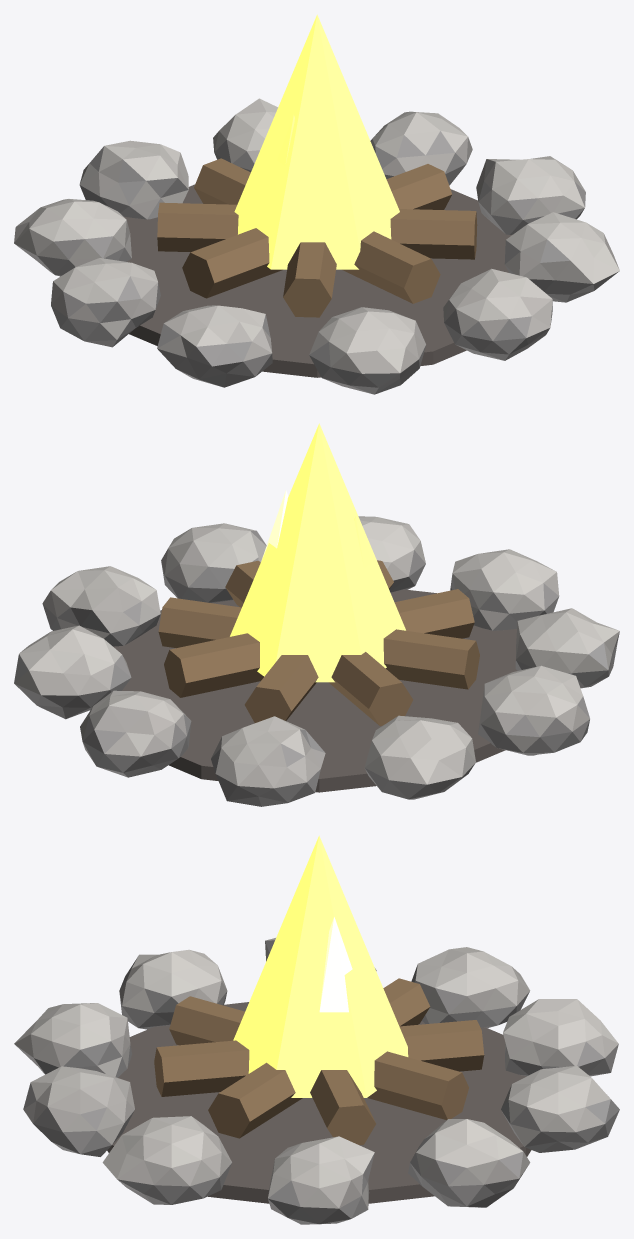
The model's file is Campfire.glb.
The picture shows the model from 3 angles, top to bottom: view 1: azimuth 30°, elevation 25°; view 2: azimuth 150°, elevation 25°; view 3: azimuth 270°, elevation 25°; orthographic projection. The views are drawn at different scales.
Parts seen in each view (by area): view 1: Campfire_Flame, Campfire_Ash, Campfire_Stone.007, Campfire_Stone.008, Campfire_Stone.006, Campfire_Log.003, Campfire_Stone.005, Campfire_Stone.009, Campfire_Stone.004, Campfire_Stone.003, Campfire_Log, Campfire_Stone (+4 smaller); view 2: Campfire_Flame, Campfire_Ash, Campfire_Stone.005, Campfire_Stone.003, Campfire_Log, Campfire_Log.001, Campfire_Stone.001, Campfire_Stone.002, Campfire_Stone.004, Campfire_Stone, Campfire_Stone.007, Campfire_Stone.006 (+4 smaller); view 3: Campfire_Flame, Campfire_Ash, Campfire_Stone.009, Campfire_Log.002, Campfire_Stone.001, Campfire_Stone, Campfire_Stone.002, Campfire_Stone.008, Campfire_Log.001, Campfire_Stone.003, Campfire_Stone.004, Campfire_Stone.007 (+4 smaller).
Boxes of the visible parts, x1,y1,x2,y2 form: Campfire_Flame: (234, 14, 399, 269); Campfire_Ash: (124, 184, 512, 377); Campfire_Stone.007: (309, 307, 426, 394); Campfire_Stone.008: (443, 268, 552, 360); Campfire_Stone.006: (157, 305, 272, 387); Campfire_Log.003: (157, 202, 477, 259); Campfire_Stone.005: (51, 258, 160, 347); Campfire_Stone.009: (504, 212, 619, 302); Campfire_Stone.004: (14, 199, 131, 276); Campfire_Stone.003: (79, 140, 188, 219); Campfire_Log: (182, 164, 452, 298); Campfire_Stone: (476, 156, 585, 234); Campfire_Flame: (230, 423, 405, 682); Campfire_Ash: (113, 589, 517, 792); Campfire_Stone.005: (478, 665, 589, 755); Campfire_Stone.003: (211, 716, 325, 806); Campfire_Log: (158, 597, 479, 689); Campfire_Log.001: (164, 589, 474, 697); Campfire_Stone.001: (14, 625, 131, 719); Campfire_Stone.002: (80, 690, 191, 777); Campfire_Stone.004: (364, 715, 475, 799); Campfire_Stone: (42, 566, 160, 646); Campfire_Stone.007: (450, 549, 559, 630); Campfire_Stone.006: (515, 608, 619, 688); Campfire_Flame: (233, 835, 408, 1097); Campfire_Ash: (107, 1002, 531, 1203); Campfire_Stone.009: (102, 1116, 232, 1204); Campfire_Log.002: (154, 1020, 484, 1096); Campfire_Stone.001: (408, 1119, 530, 1207); Campfire_Stone: (268, 1136, 374, 1224); Campfire_Stone.002: (501, 1065, 619, 1152); Campfire_Stone.008: (23, 1066, 134, 1156); Campfire_Log.001: (169, 996, 468, 1120); Campfire_Stone.003: (503, 999, 618, 1076); Campfire_Stone.004: (411, 947, 530, 1027); Campfire_Stone.007: (14, 1003, 131, 1077).
Bounding box in the file's own units: 2.46 × 1.25 × 2.41.
